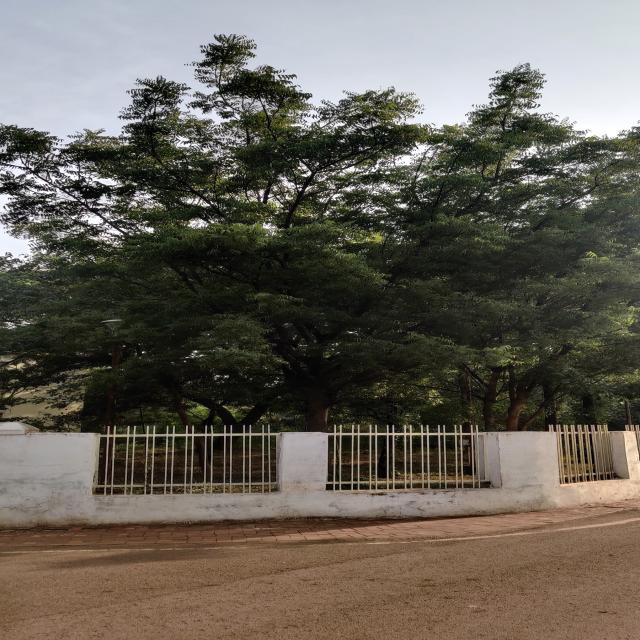Neem Tree: (59, 93, 565, 409)
